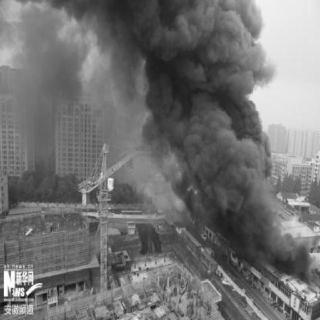Smoke: (79, 1, 277, 96)
